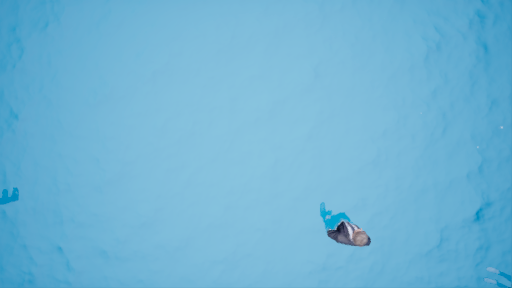person: (315, 200, 376, 247)
